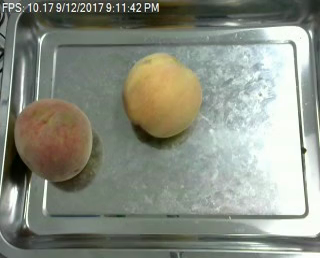Peach: (122, 51, 202, 138), (13, 97, 92, 182)
